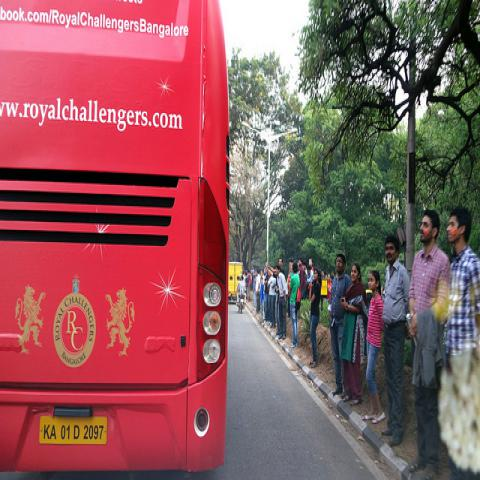bus: (1, 0, 234, 472)
motorcycle: (238, 294, 244, 314)
truck: (228, 262, 243, 303)
